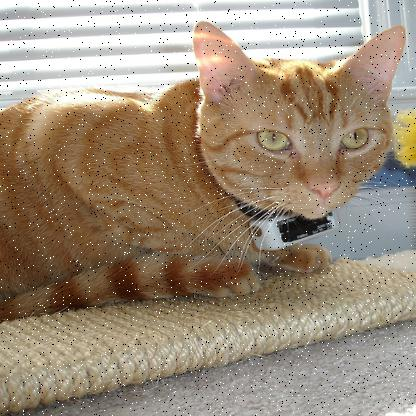cat: (8, 13, 415, 314)
